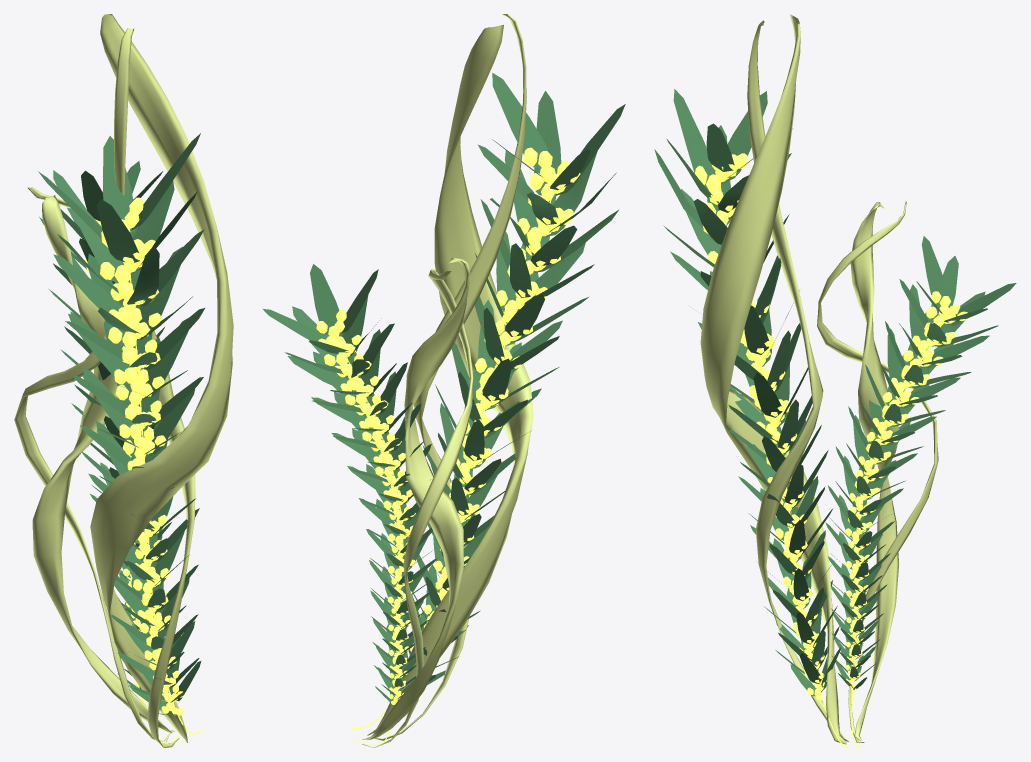
The model's file is Seaweed (1).fbx.
The picture shows the model from 3 angles, left to right: view 1: azimuth 30°, elevation 25°; view 2: azimuth 150°, elevation 25°; view 3: azimuth 270°, elevation 25°; orthographic projection. The views are drawn at different scales.
Parts seen in each view (by area): view 1: Wall Planter.render; view 2: Wall Planter.render; view 3: Wall Planter.render.
Boxes of the visible parts, x1=… form: Wall Planter.render: x1=14, y1=14, x2=233, y2=747; Wall Planter.render: x1=263, y1=14, x2=625, y2=747; Wall Planter.render: x1=654, y1=14, x2=1016, y2=747.
Bounding box in the file's own units: 30.27 × 96.5 × 46.28.
2 materials, 1 textured.
